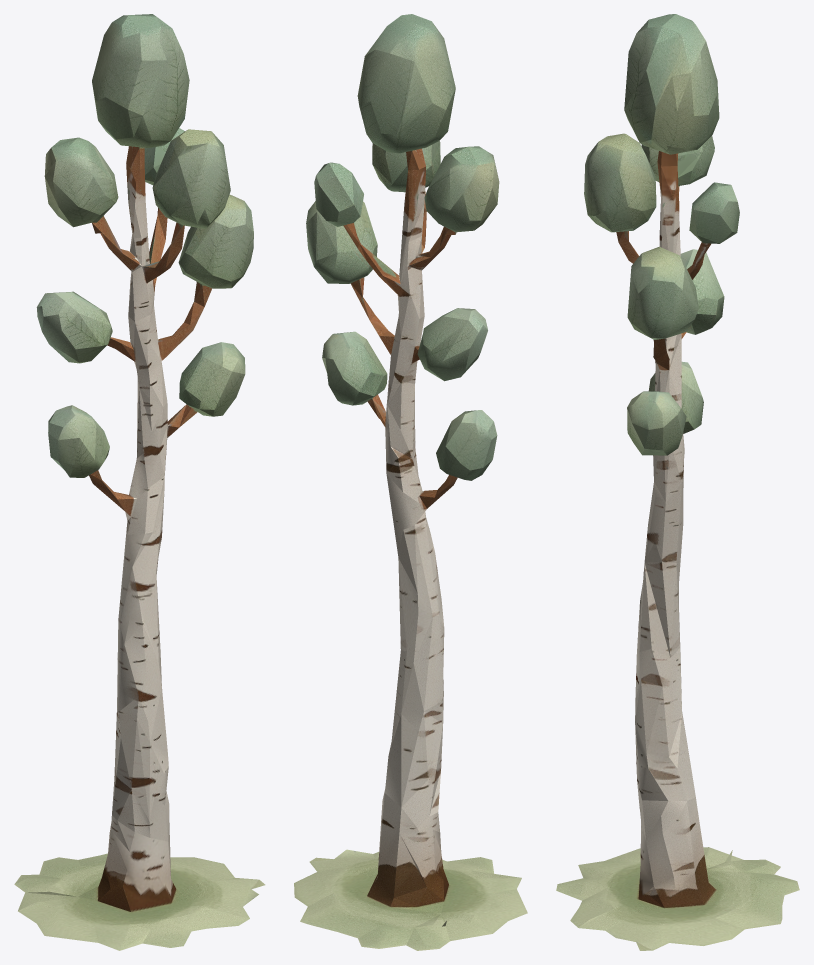
File: birch.glb
The picture shows the model from 3 angles, left to right: view 1: azimuth 30°, elevation 25°; view 2: azimuth 150°, elevation 25°; view 3: azimuth 270°, elevation 25°; orthographic projection.
Bounding box in the file's own units: 0.4892 × 1.9 × 0.4766.
Materials: 1 (1 with a texture image).
